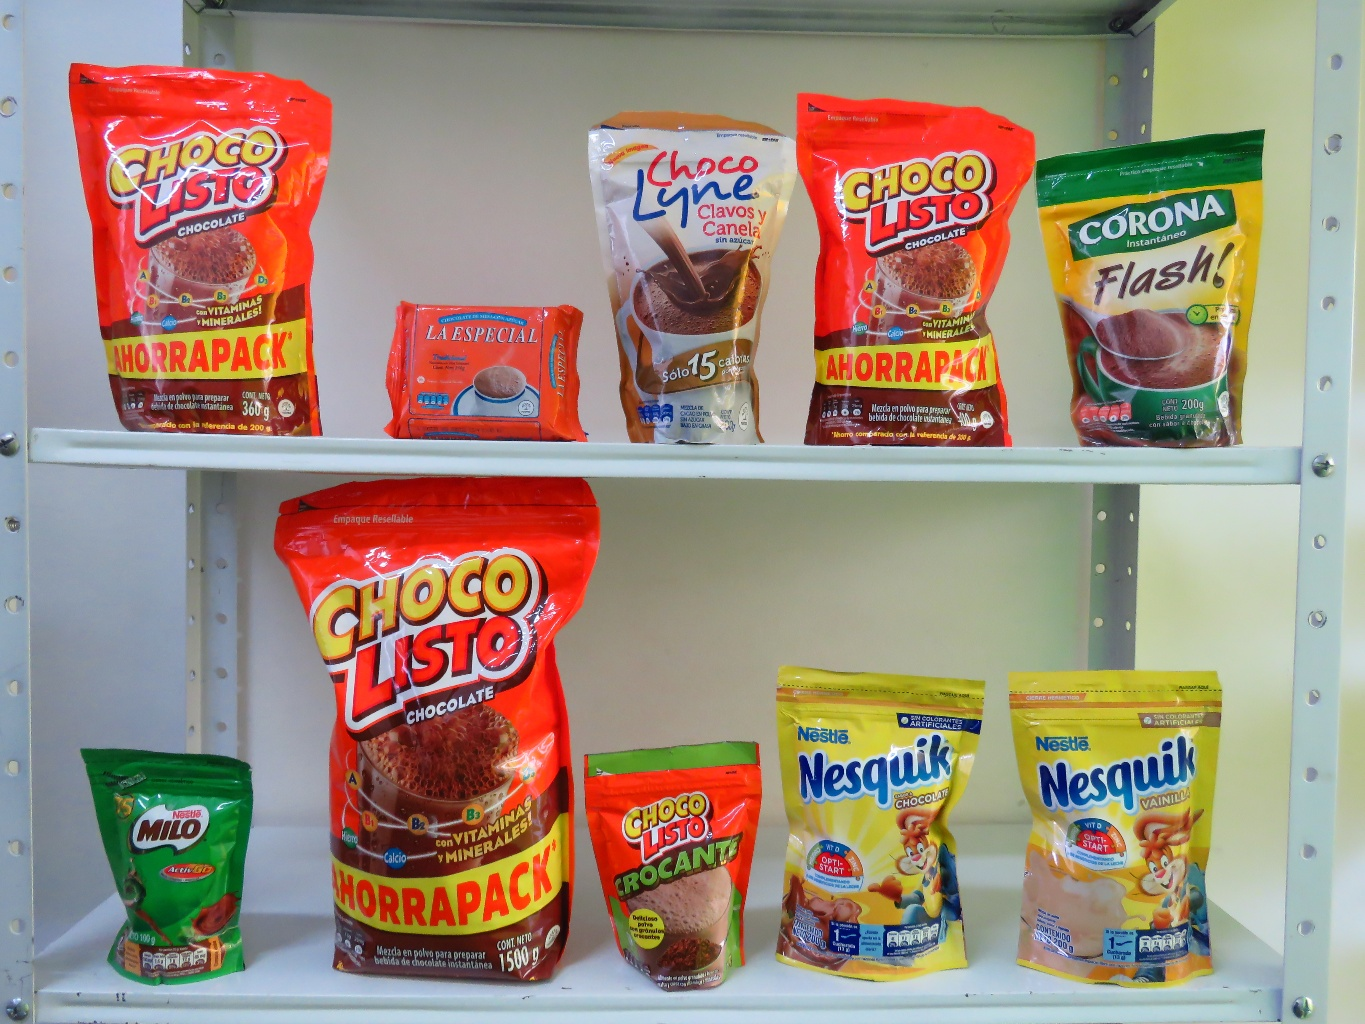COL0170102DYP10000: (579, 724, 781, 999)
COL0170103DYP1,500: (268, 477, 598, 989)
COL0170103DYP36000: (61, 56, 340, 447)
COL0170103DYP40000: (797, 88, 1037, 458)
COL0170203DYP10000: (77, 730, 271, 996)
COL0170303DYP20000: (772, 656, 989, 987)
COL0170306DYP20000: (999, 662, 1243, 990)
